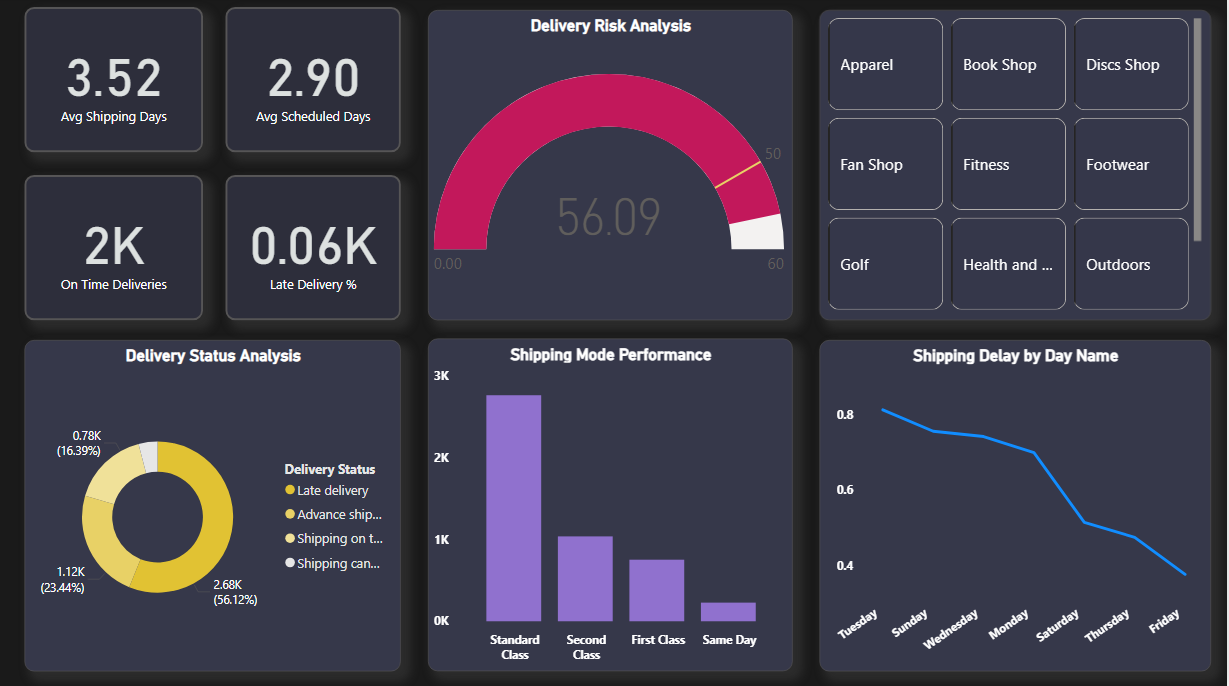

The page's visual inventory and layout, read from the dashboard file:
{"tool":"powerbi","page":{"name":"Shipping & Delivery Analysis","canvas":[1280,720],"ordinal":3},"visuals":[{"type":"card","fields":{"Values":["SupplyChain-Data.Avg Shipping Days"]},"box":[26.6,12.5,186,151.6],"z":0},{"type":"card","fields":{"Values":["SupplyChain-Data.Avg Scheduled Days"]},"box":[236,12.5,182.9,151.6],"z":1000},{"type":"card","fields":{"Values":["SupplyChain-Data.Late Delivery %"]},"box":[236,187.6,182.9,151.6],"z":2000},{"type":"card","fields":{"Values":["SupplyChain-Data.On Time Deliveries"]},"box":[26.6,187.6,186,151.6],"z":3000},{"type":"gauge","title":"Delivery Risk Analysis","fields":{"Y":["SupplyChain-Data.Late Delivery %"],"TargetValue":["SupplyChain-Data.Max Late Delivery %"],"MaxValue":["Date Table.Target Late Delivery %"]},"box":[447,15.6,379.8,323.5],"z":4000},{"type":"advancedSlicerVisual","fields":{"Values":["SupplyChain-Data.Department Name"]},"box":[855,15.6,407.9,323.5],"z":5000},{"type":"donutChart","title":"Delivery Status Analysis","fields":{"Category":["SupplyChain-Data.Delivery Status"],"Y":["CountNonNull(SupplyChain-Data.Order Id)"]},"box":[26.6,359.5,392.3,345.4],"z":6000},{"type":"clusteredColumnChart","title":"Shipping Mode Performance","fields":{"Category":["SupplyChain-Data.Shipping Mode"],"Y":["SupplyChain-Data.Total Orders"]},"box":[447,357.9,379.8,347],"z":7000},{"type":"lineChart","fields":{"Y":["SupplyChain-Data.Shipping Delay"],"Category":["Date Table.Day Name"]},"box":[855,359.5,407.9,345.4],"z":8000}]}

Visuals, with their boxes in screenshot pixels (x1, y1, x2, y2), scaled from the page's 1280x720 canvas onto the 1229x686 screenshot:
card - SupplyChain-Data.Avg Shipping Days: <bbox>26, 12, 204, 156</bbox>
card - SupplyChain-Data.Avg Scheduled Days: <bbox>227, 12, 402, 156</bbox>
card - SupplyChain-Data.Late Delivery %: <bbox>227, 179, 402, 323</bbox>
card - SupplyChain-Data.On Time Deliveries: <bbox>26, 179, 204, 323</bbox>
"Delivery Risk Analysis" gauge: <bbox>429, 15, 794, 323</bbox>
advancedSlicerVisual - SupplyChain-Data.Department Name: <bbox>821, 15, 1213, 323</bbox>
"Delivery Status Analysis" donutChart: <bbox>26, 343, 402, 672</bbox>
"Shipping Mode Performance" clusteredColumnChart: <bbox>429, 341, 794, 672</bbox>
lineChart - SupplyChain-Data.Shipping Delay x Date Table.Day Name: <bbox>821, 343, 1213, 672</bbox>
